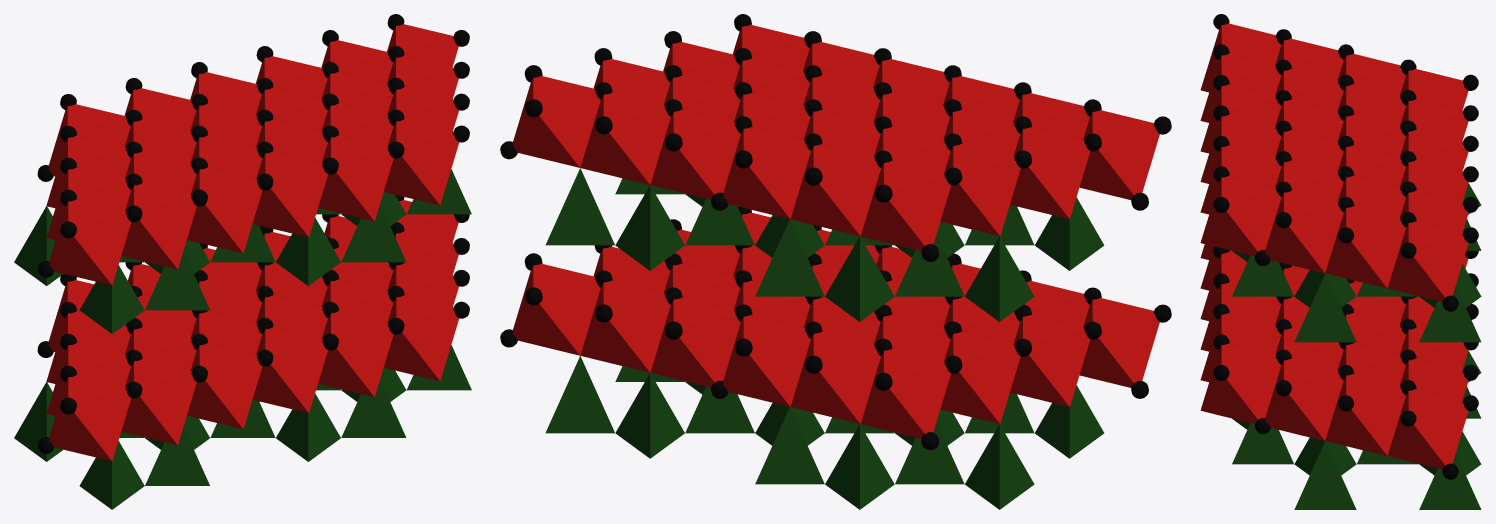
Rendered from Serpentina.obj.
The picture shows the model from 3 angles, left to right: view 1: azimuth 30°, elevation 25°; view 2: azimuth 150°, elevation 25°; view 3: azimuth 270°, elevation 25°; orthographic projection. The views are drawn at different scales.
Visible parts, largest first — view 1: Folha_Brucita.001_Solid.604, Folha_Brucita_Solid.597, Folha_tetraedrica_Br.001_Solid.605, Folha_tetraedrica_Br_Solid.603, Folha_hidroxila.001_Sphere.044, Folha_hidroxila_Sphere.042; view 2: Folha_Brucita.001_Solid.604, Folha_Brucita_Solid.597, Folha_tetraedrica_Br_Solid.603, Folha_tetraedrica_Br.001_Solid.605, Folha_hidroxila.001_Sphere.044, Folha_hidroxila_Sphere.042, Folha_hidroxila_base_Sphere.043, Folha_hidroxila_base.001_Sphere.045; view 3: Folha_Brucita.001_Solid.604, Folha_Brucita_Solid.597, Folha_tetraedrica_Br.001_Solid.605, Folha_tetraedrica_Br_Solid.603, Folha_hidroxila.001_Sphere.044, Folha_hidroxila_Sphere.042, Folha_hidroxila_base_Sphere.043, Folha_hidroxila_base.001_Sphere.045.
Part boxes in pixels (x1,y1,x2,y2): Folha_Brucita.001_Solid.604: (46,24,459,285); Folha_Brucita_Solid.597: (46,200,459,461); Folha_tetraedrica_Br.001_Solid.605: (14,169,471,333); Folha_tetraedrica_Br_Solid.603: (14,345,471,509); Folha_hidroxila.001_Sphere.044: (60,14,469,238); Folha_hidroxila_Sphere.042: (60,195,469,414); Folha_Brucita.001_Solid.604: (513,24,1159,251); Folha_Brucita_Solid.597: (513,212,1159,438); Folha_tetraedrica_Br_Solid.603: (545,356,1104,509); Folha_tetraedrica_Br.001_Solid.605: (545,168,1104,321); Folha_hidroxila.001_Sphere.044: (524,14,1171,202); Folha_hidroxila_Sphere.042: (524,206,1171,390); Folha_hidroxila_base_Sphere.043: (500,329,1148,450); Folha_hidroxila_base.001_Sphere.045: (500,141,1148,261); Folha_Brucita.001_Solid.604: (1200,23,1468,301); Folha_Brucita_Solid.597: (1200,244,1468,469); Folha_tetraedrica_Br.001_Solid.605: (1232,183,1481,342); Folha_tetraedrica_Br_Solid.603: (1232,351,1481,509); Folha_hidroxila.001_Sphere.044: (1213,14,1478,258); Folha_hidroxila_Sphere.042: (1213,246,1478,426); Folha_hidroxila_base_Sphere.043: (1255,418,1458,479); Folha_hidroxila_base.001_Sphere.045: (1255,250,1458,311).
Bounding box in the file's own units: 1.09 × 0.6258 × 0.5501.
